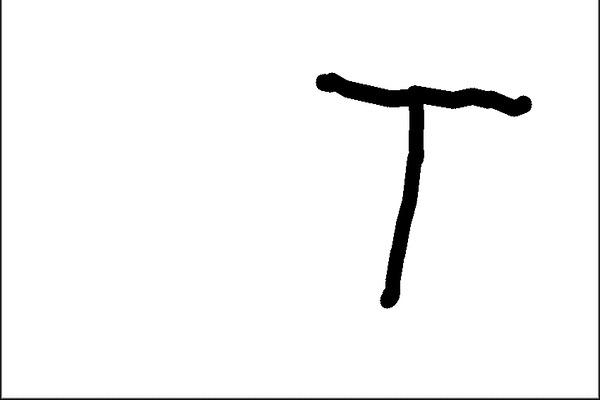T: (312, 61, 533, 316)
